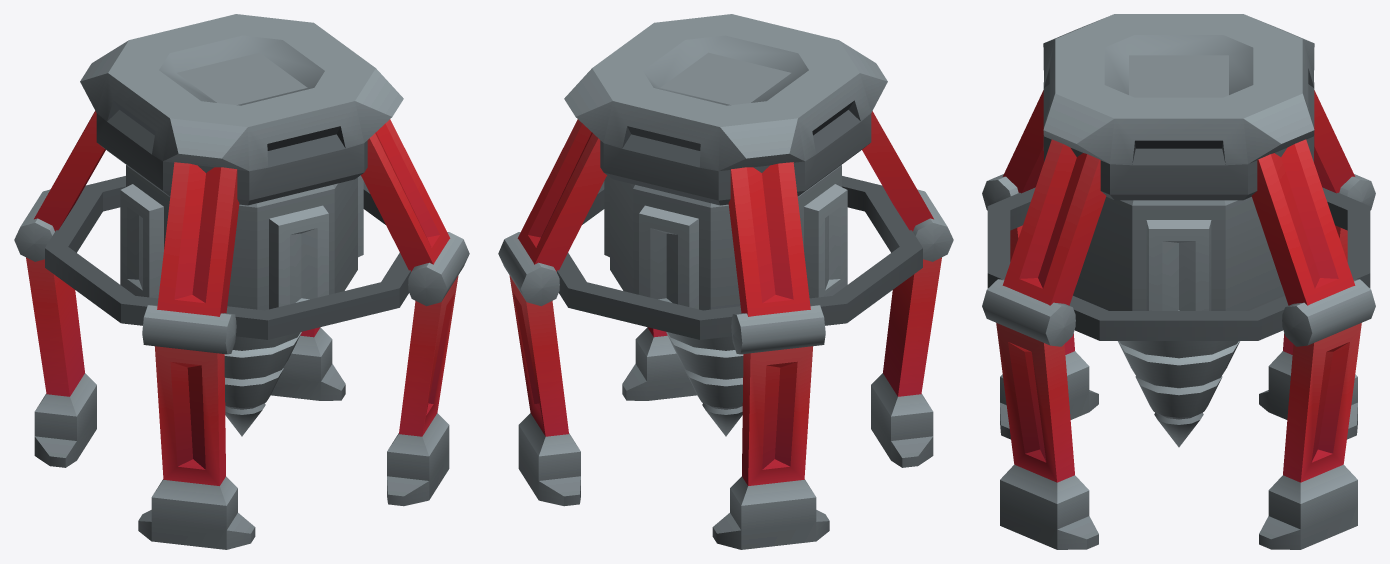
The model's file is kk_drill.glb.
The picture shows the model from 3 angles, left to right: view 1: azimuth 30°, elevation 25°; view 2: azimuth 150°, elevation 25°; view 3: azimuth 270°, elevation 25°; orthographic projection. The views are drawn at different scales.
Parts seen in each view (by area): view 1: drill_structure, drill_module; view 2: drill_structure, drill_module; view 3: drill_structure, drill_module.
Part boxes in pixels (box(x1,y1,x2,y2)): drill_structure: box(14, 14, 469, 549); drill_module: box(120, 165, 363, 436); drill_structure: box(498, 14, 953, 549); drill_module: box(604, 165, 847, 436); drill_structure: box(982, 14, 1375, 549); drill_module: box(1073, 197, 1284, 447).
Bounding box in the file's own units: 6.13 × 7 × 6.13.
1 material, 1 textured.
